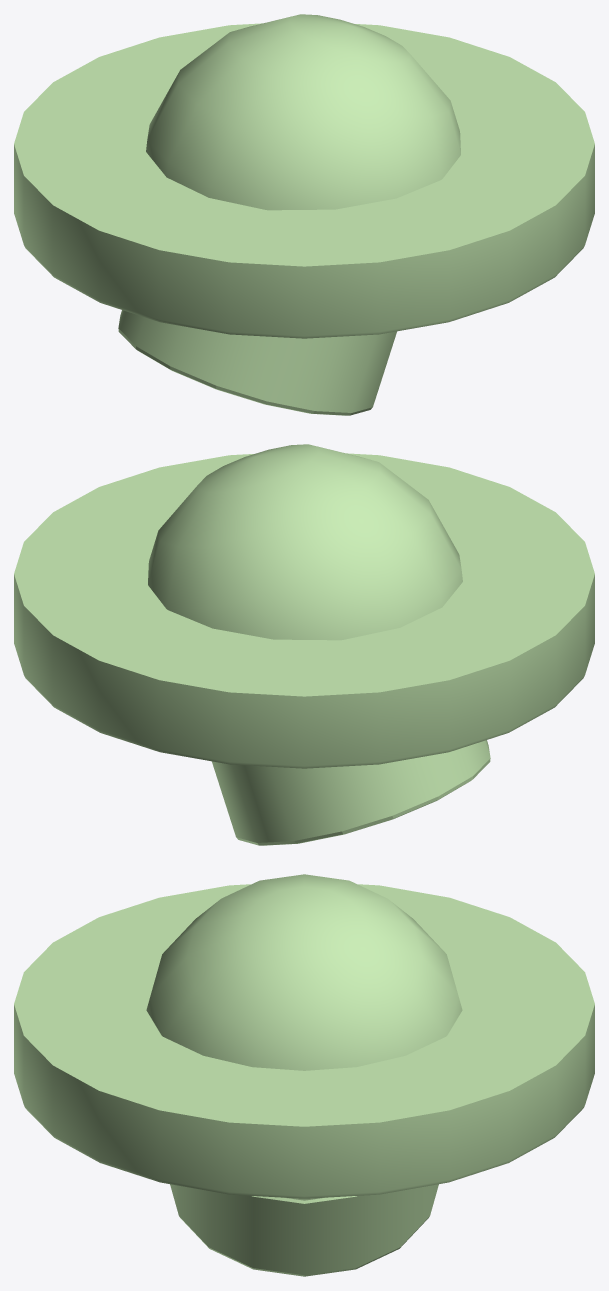
File: Lights.fbx
The picture shows the model from 3 angles, top to bottom: view 1: azimuth 30°, elevation 25°; view 2: azimuth 150°, elevation 25°; view 3: azimuth 270°, elevation 25°; orthographic projection.
Parts seen in each view (by area): view 1: SM_Flat_Lamp, SM_Ball_Lamp; view 2: SM_Flat_Lamp, SM_Ball_Lamp; view 3: SM_Flat_Lamp, SM_Ball_Lamp.
Part boxes in pixels (<box>): SM_Flat_Lamp: <box>14,23,594,338</box>; SM_Ball_Lamp: <box>50,14,558,415</box>; SM_Flat_Lamp: <box>14,453,594,768</box>; SM_Ball_Lamp: <box>50,444,558,845</box>; SM_Flat_Lamp: <box>14,884,594,1198</box>; SM_Ball_Lamp: <box>68,874,549,1276</box>.
Bounding box in the file's own units: 29 × 19.95 × 29.
